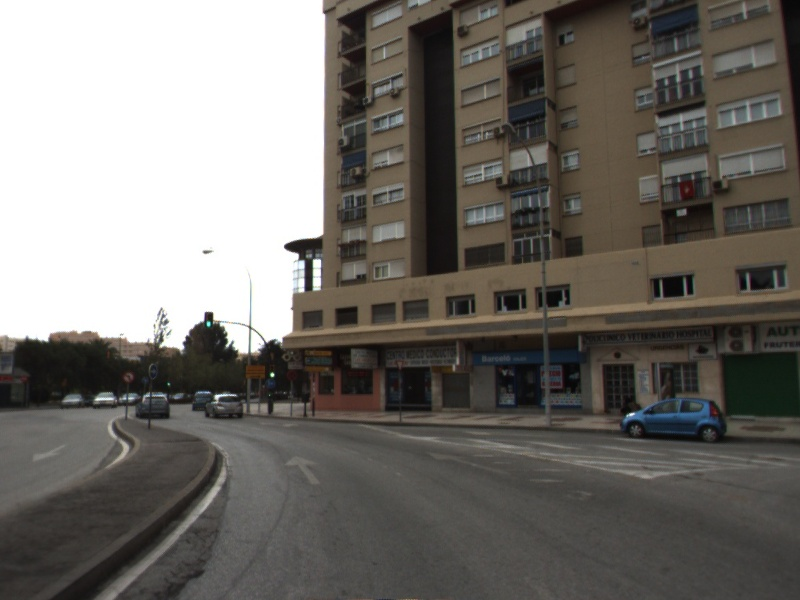STRAIGHT: (424, 450, 513, 478), (282, 453, 323, 486)
